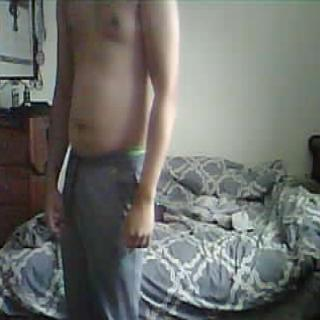Blue Sweatpants: (58, 141, 153, 320)
